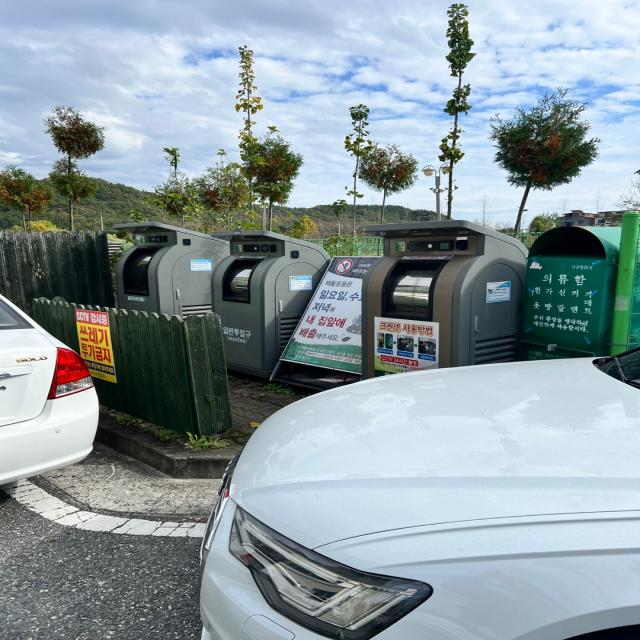CleanNet: (357, 210, 542, 384), (200, 216, 338, 375), (106, 215, 238, 350)
